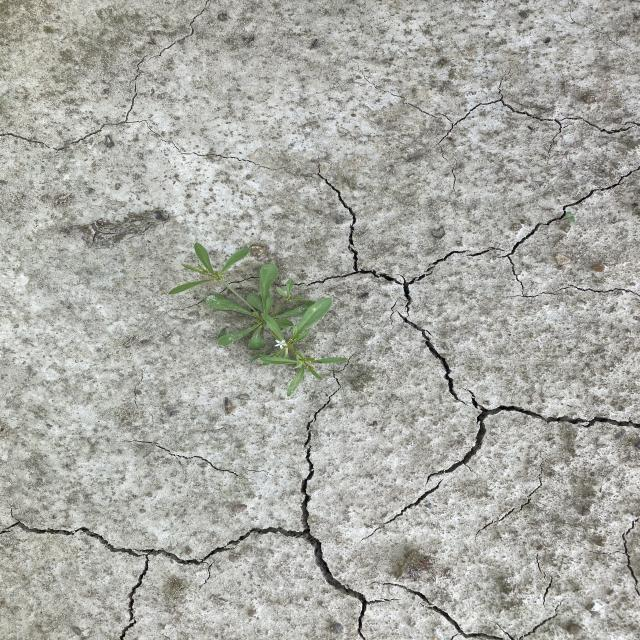Carpetweed: (166, 240, 351, 399)
